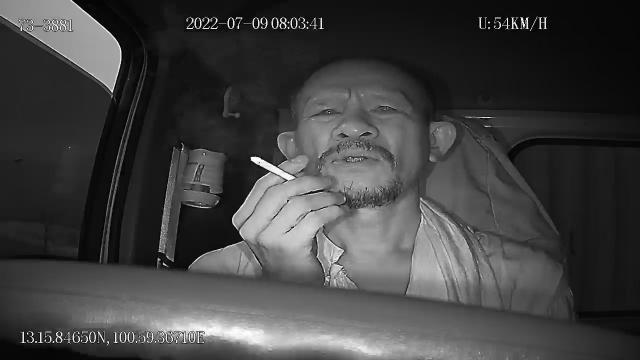SafeDriving: (304, 96, 348, 126), (365, 94, 408, 121)
Smoking: (250, 154, 298, 182)
